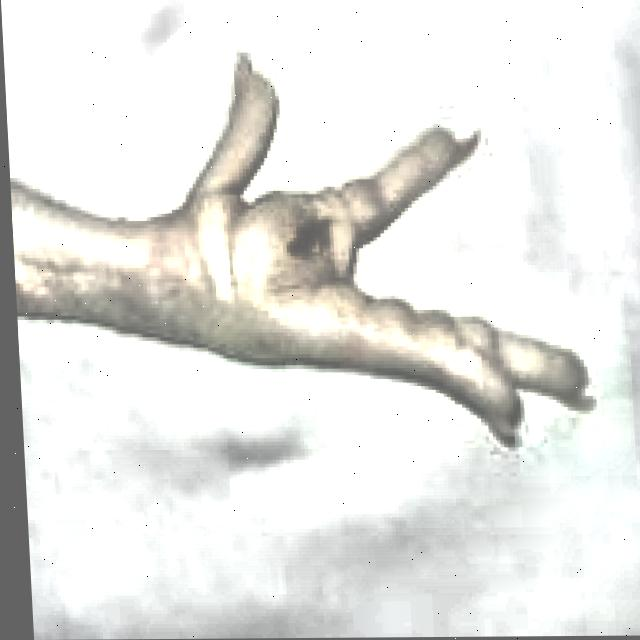Bumble foot: (2, 48, 596, 451)
